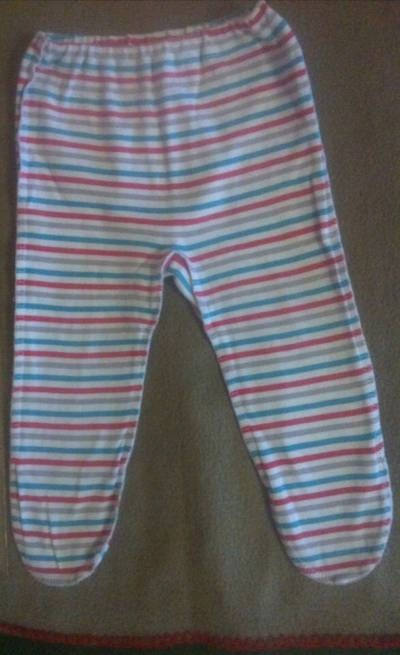Pants: (8, 23, 400, 604)
